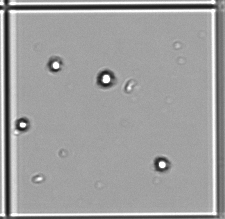Living Cell: (96, 69, 115, 89), (154, 155, 171, 173), (47, 56, 63, 73), (15, 116, 29, 132)
